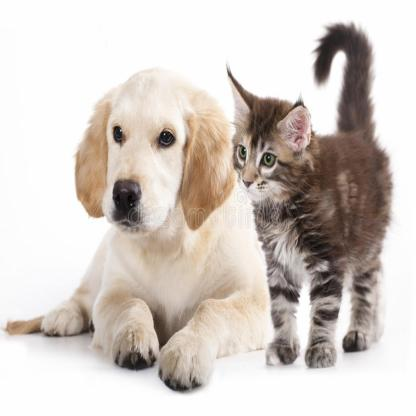cat: (212, 27, 338, 223)
dog: (76, 51, 230, 274)
